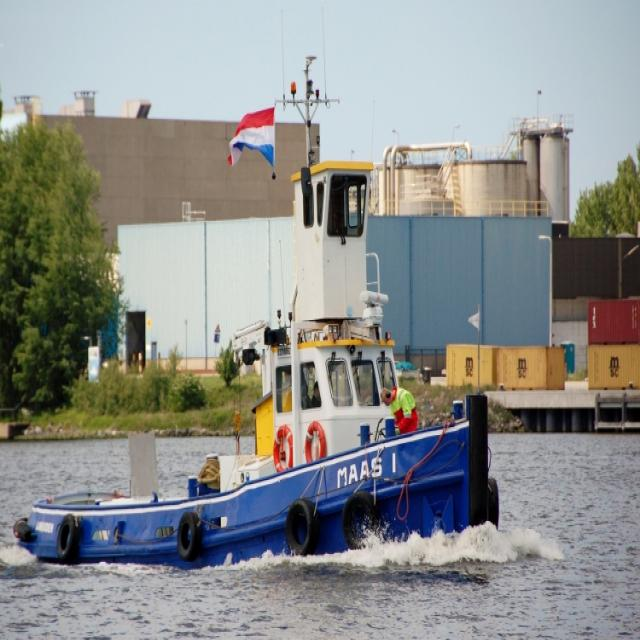tugboat: (8, 158, 508, 584)
